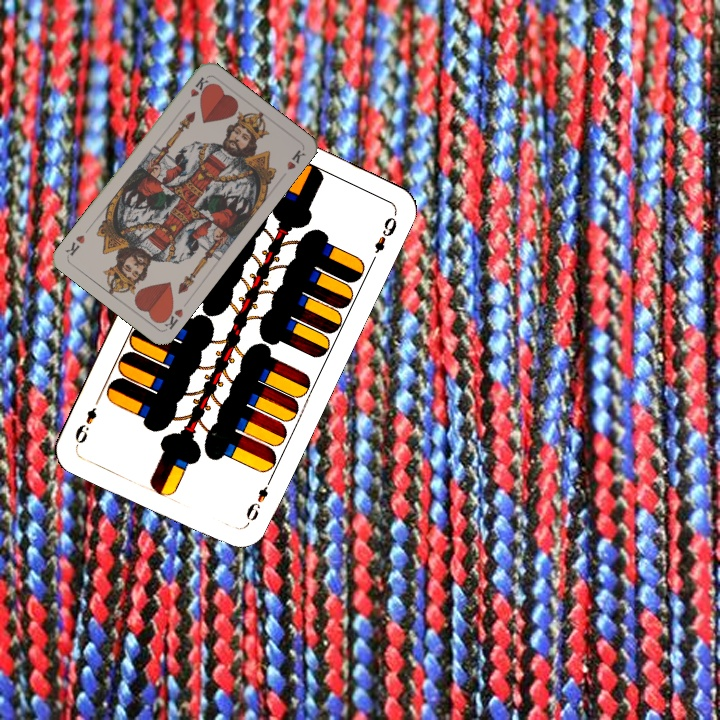E9: (242, 473, 275, 528)
HK: (180, 72, 211, 109), (156, 302, 186, 332)
